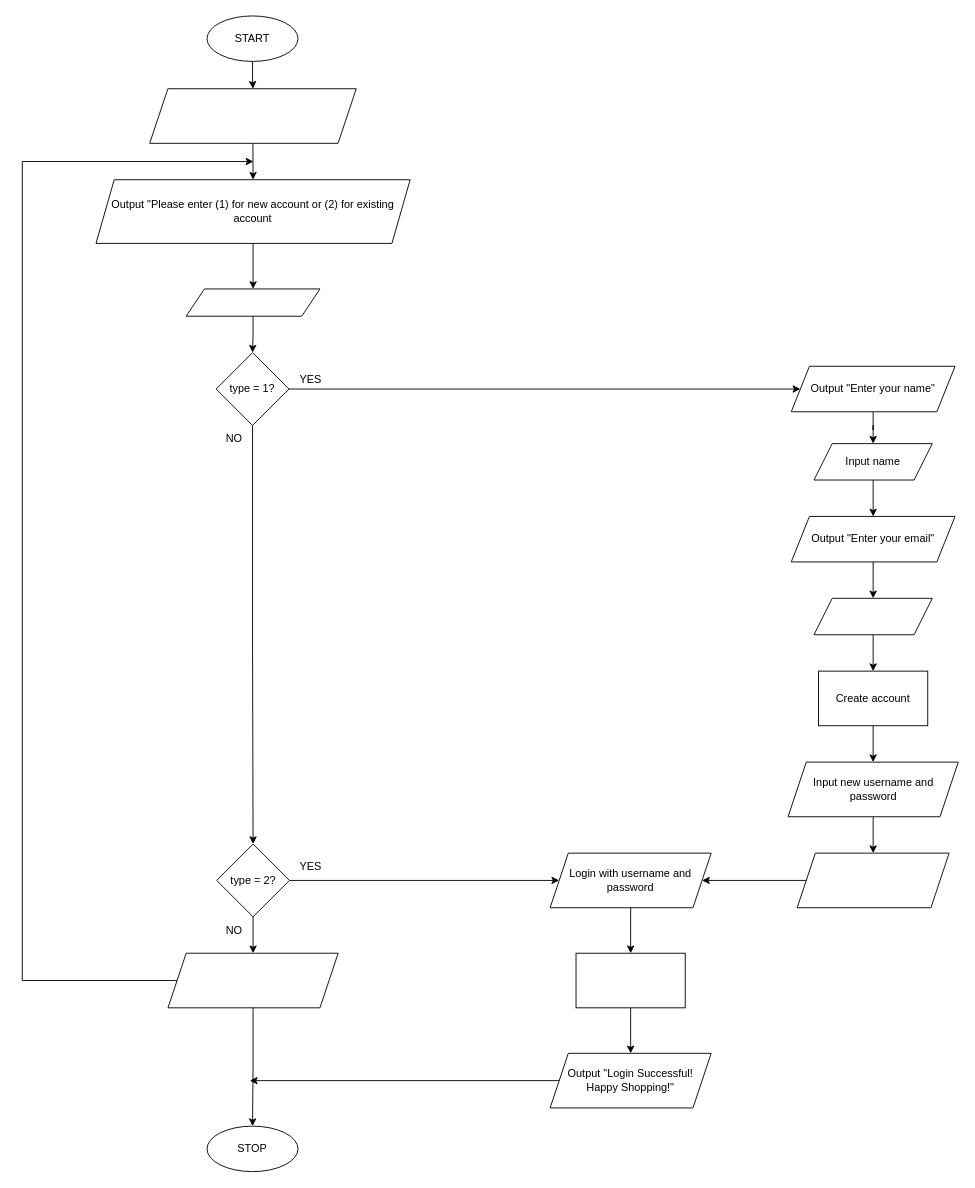
Some shapes in this 975 by 1188 pixel diagram are drawn without their labels. Each missing label, with the centre of its shape:
Input email: (x=872, y=616)
Input type: (x=252, y=302)
Output "Invalid username or password": (x=252, y=980)
Output "Successful Registeration!": (x=872, y=880)
Output "Welcome to Online Book Shopping Website!": (x=252, y=115)
Validate credentials: (x=630, y=980)
